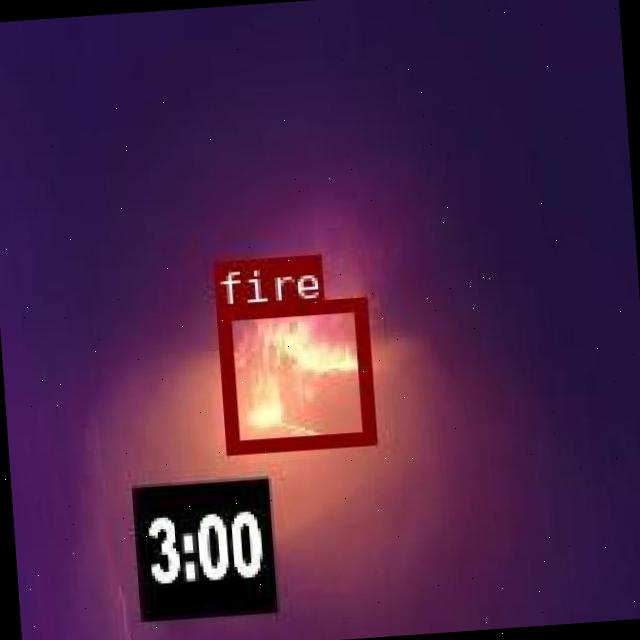fire: (214, 296, 372, 452)
